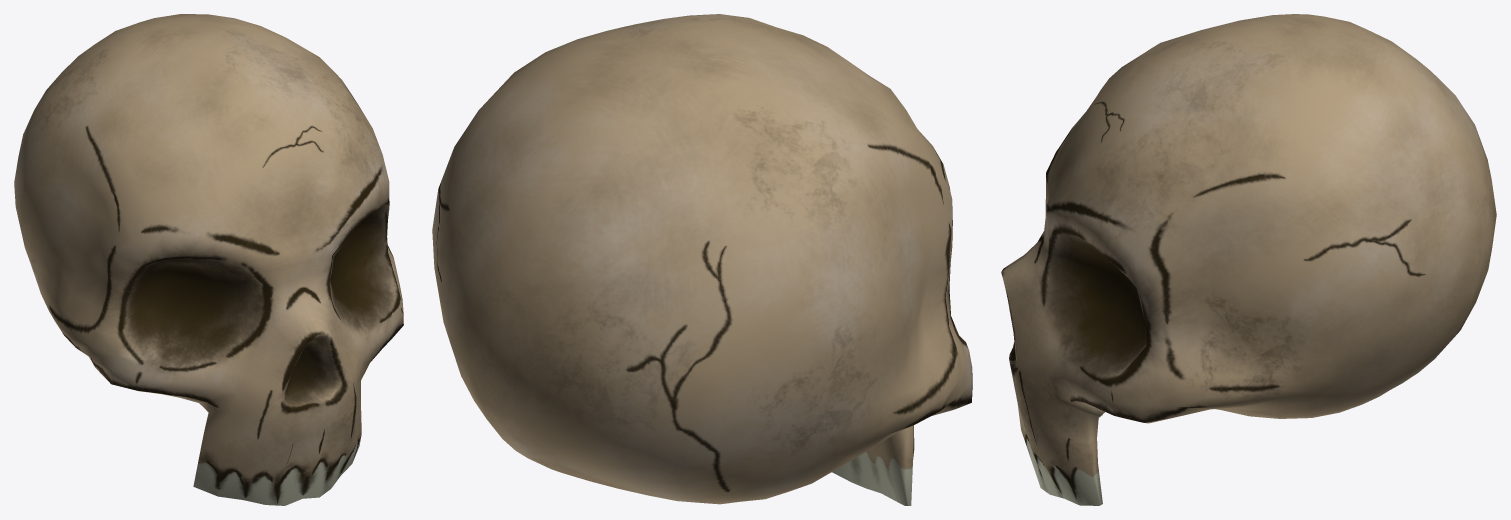
File: Skull.fbx
The picture shows the model from 3 angles, left to right: view 1: azimuth 30°, elevation 25°; view 2: azimuth 150°, elevation 25°; view 3: azimuth 270°, elevation 25°; orthographic projection. The views are drawn at different scales.
Parts seen in each view (by area): view 1: Skull_low8; view 2: Skull_low8; view 3: Skull_low8.
Part boxes in pixels (x1,y1,x2,y2): Skull_low8: (14,14,403,505); Skull_low8: (432,14,972,505); Skull_low8: (1001,14,1496,505).
Bounding box in the file's own units: 1.81 × 2.16 × 2.19.
